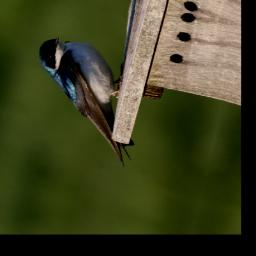Swallow: (18, 30, 161, 171)
